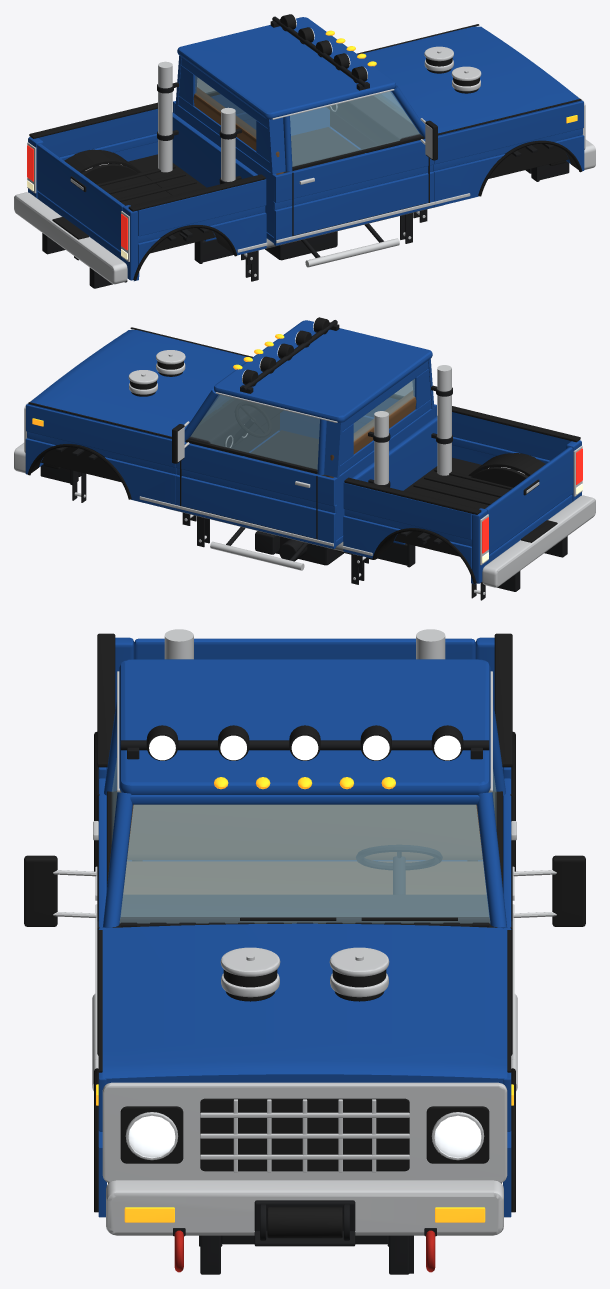
Rendered from truck.glb.
The picture shows the model from 3 angles, top to bottom: view 1: azimuth 30°, elevation 25°; view 2: azimuth 150°, elevation 25°; view 3: azimuth 270°, elevation 25°; orthographic projection. The views are drawn at different scales.
Parts seen in each view (by area): view 1: truck; view 2: truck, steer; view 3: truck, amber.L, head.L, head.R, steer, amber.R.
Boxes of the visible parts, bbox=[...] form: truck: bbox=[14, 14, 595, 288]; truck: bbox=[14, 317, 595, 600]; steer: bbox=[235, 402, 271, 437]; truck: bbox=[24, 629, 585, 1274]; amber.L: bbox=[214, 777, 513, 1222]; head.L: bbox=[434, 1115, 481, 1158]; head.R: bbox=[128, 1115, 175, 1158]; steer: bbox=[356, 845, 442, 869]; amber.R: bbox=[96, 1084, 174, 1222].
Size of the model in its own units: 5.51 by 2.1 by 2.68.
